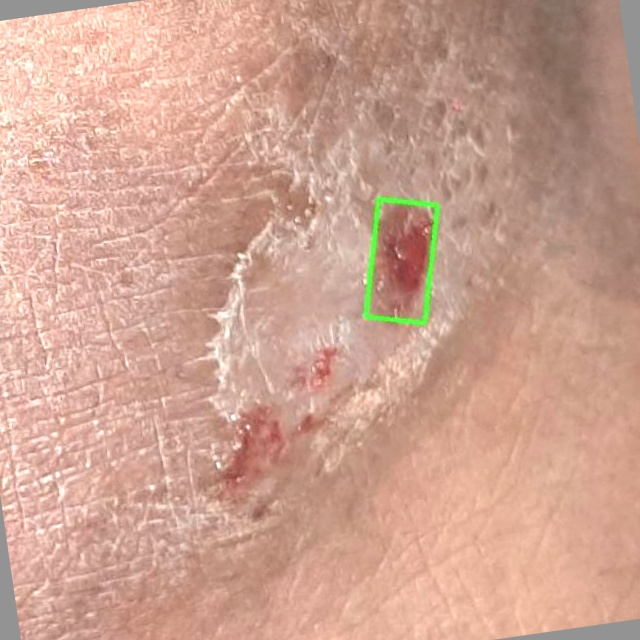Contact Dermatitis: (365, 199, 437, 323)
